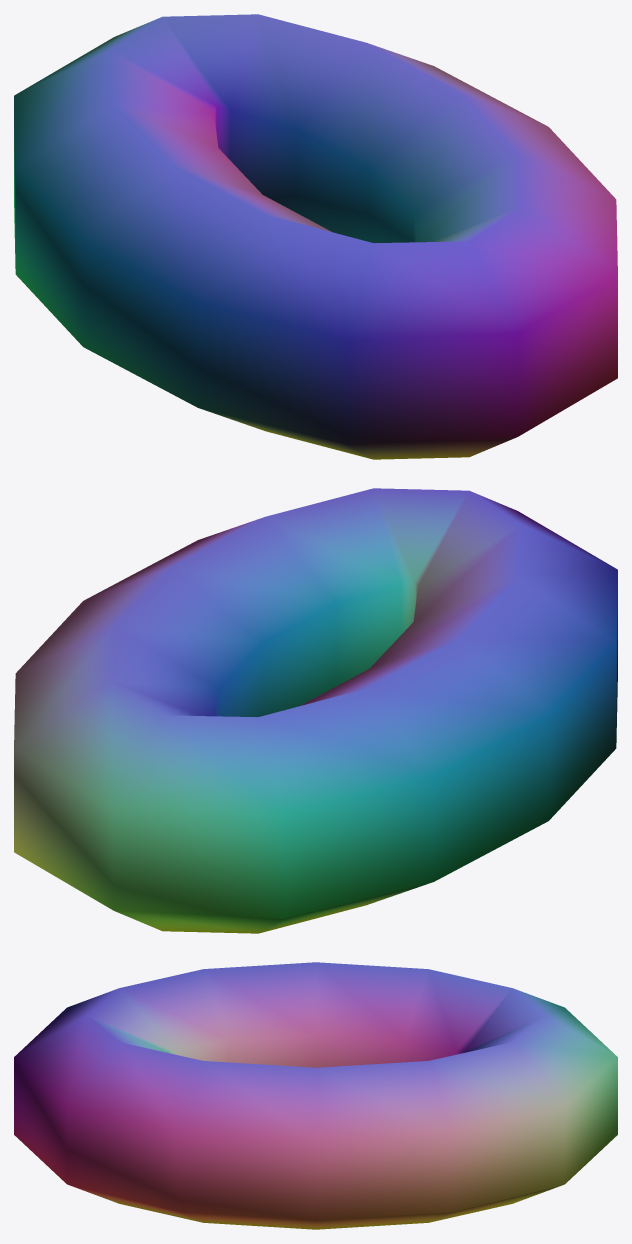
The model's file is SM_FX_ChainLink.fbx.
3 renders of one model, top to bottom at view 1: azimuth 30°, elevation 25°; view 2: azimuth 150°, elevation 25°; view 3: azimuth 270°, elevation 25°, orthographic. The views are drawn at different scales.
Visible parts, largest first — view 1: SM_FX_ChainLink; view 2: SM_FX_ChainLink; view 3: SM_FX_ChainLink.
Part boxes in pixels (<box>): SM_FX_ChainLink: <box>14,14,617,459</box>; SM_FX_ChainLink: <box>14,488,617,933</box>; SM_FX_ChainLink: <box>14,962,617,1229</box>.
Size of the model in its own units: 0.0898 by 0.04 by 0.1351.
